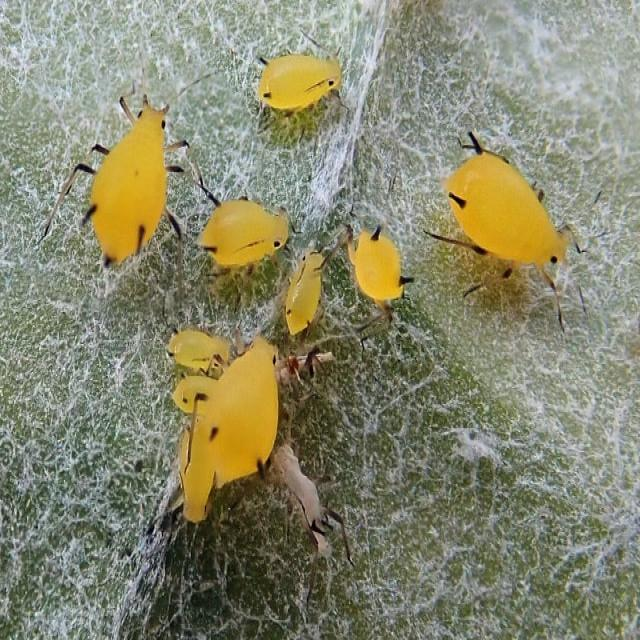Aphid-Grown-: (411, 83, 610, 347), (54, 83, 212, 285), (157, 321, 300, 529), (236, 9, 362, 148), (186, 173, 306, 286), (326, 199, 432, 324), (274, 237, 360, 346)
